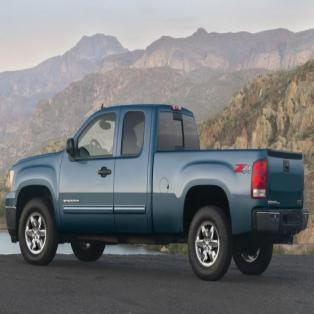Auto: (6, 97, 310, 284)
